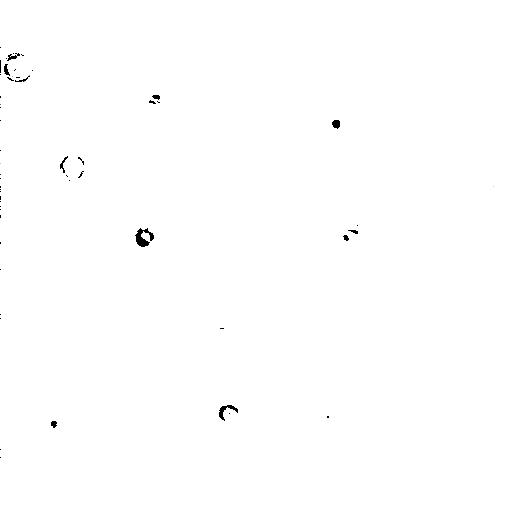micro-algae: (125, 213, 167, 257), (478, 153, 511, 203), (34, 402, 71, 441), (320, 105, 359, 140), (1, 51, 35, 83), (334, 220, 369, 249), (57, 151, 86, 181), (219, 403, 239, 422)
